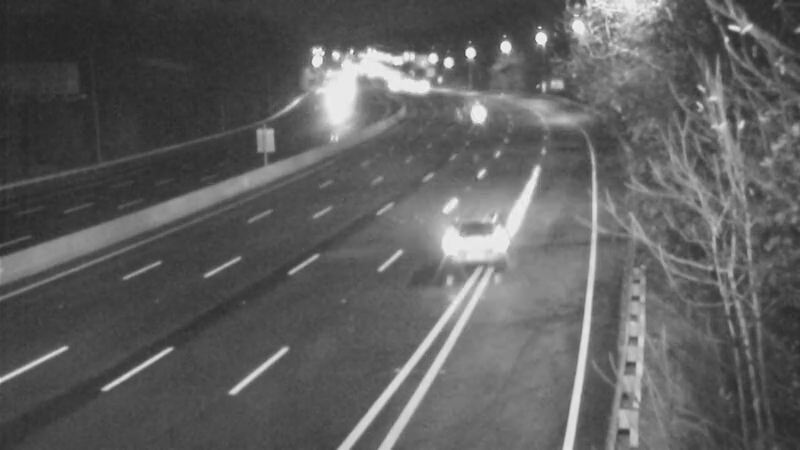vehicle: (444, 203, 524, 283), (445, 86, 495, 136)
